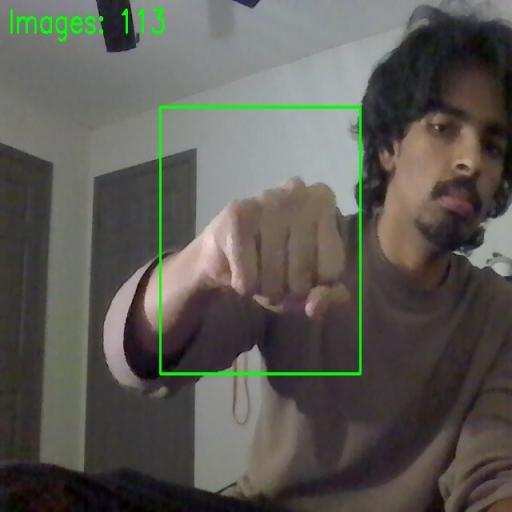backspace: (160, 109, 360, 373)
